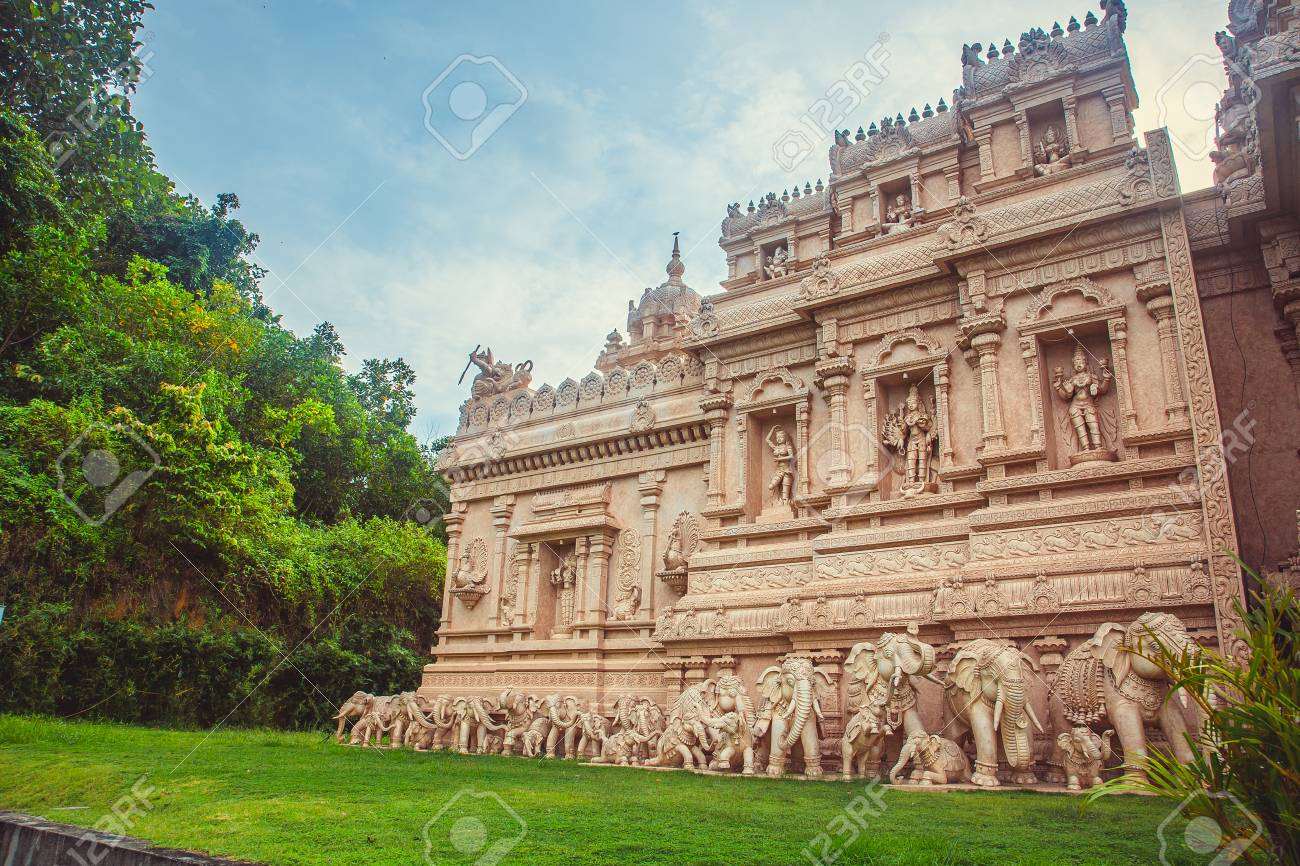Hindu Temple: (454, 13, 1300, 722)
